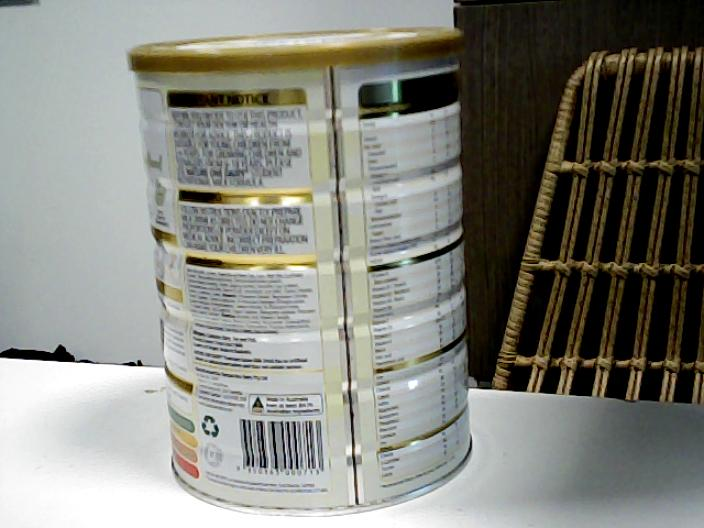Babymilk-powder_500-599g_NonHalal_NonHealthy: (127, 30, 478, 519)
